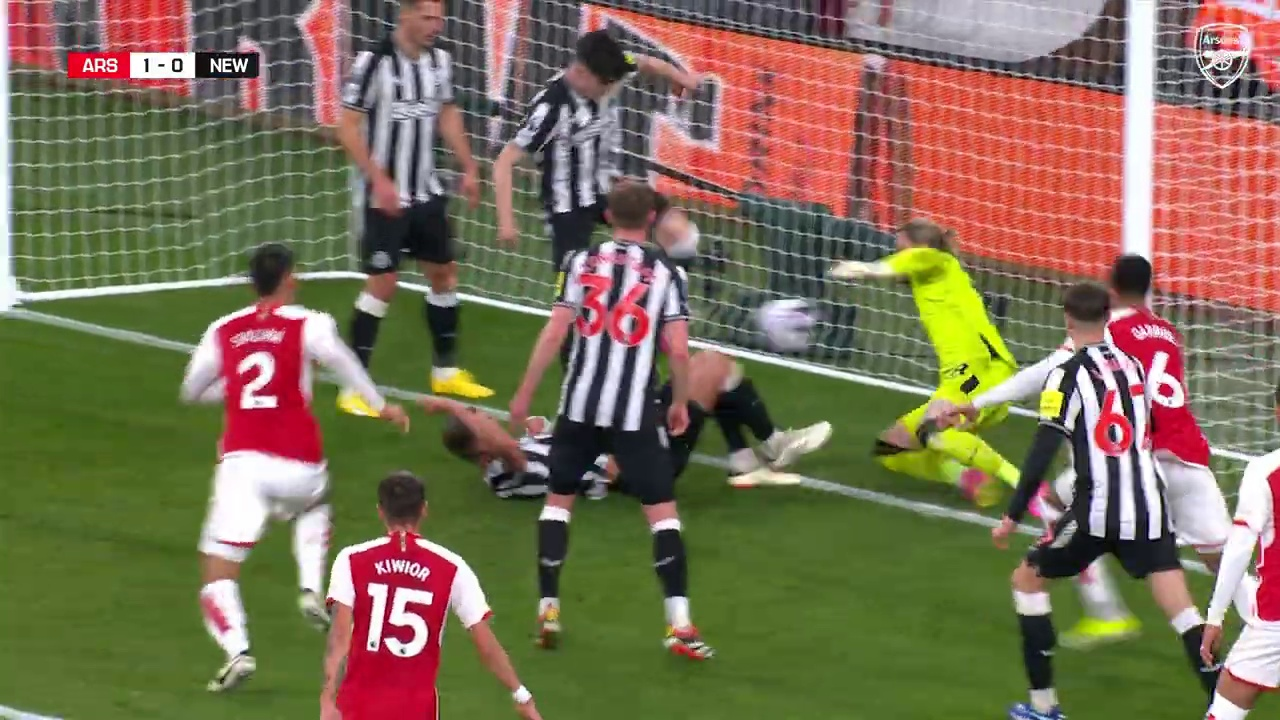ball: (947, 284, 998, 335)
